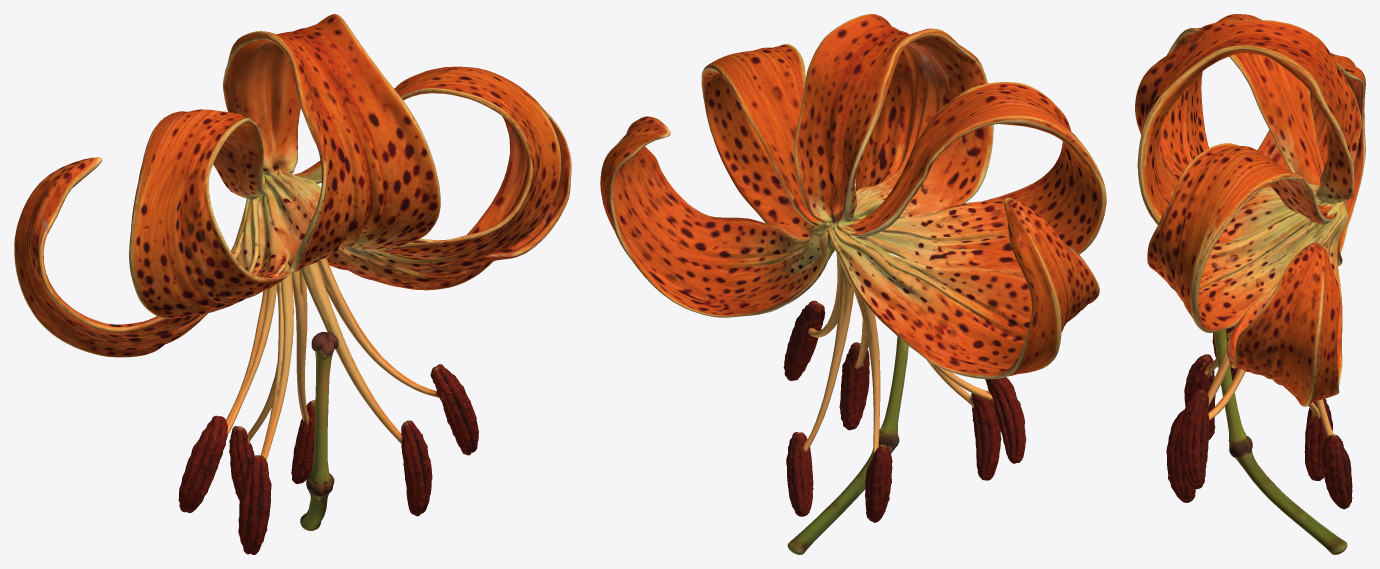
File: tiger-lily-orange.glb
The picture shows the model from 3 angles, left to right: view 1: azimuth 30°, elevation 25°; view 2: azimuth 150°, elevation 25°; view 3: azimuth 270°, elevation 25°; orthographic projection. The views are drawn at different scales.
Size of the model in its own units: 1.89 by 1.9 by 0.7926.
1 material, 1 textured.
